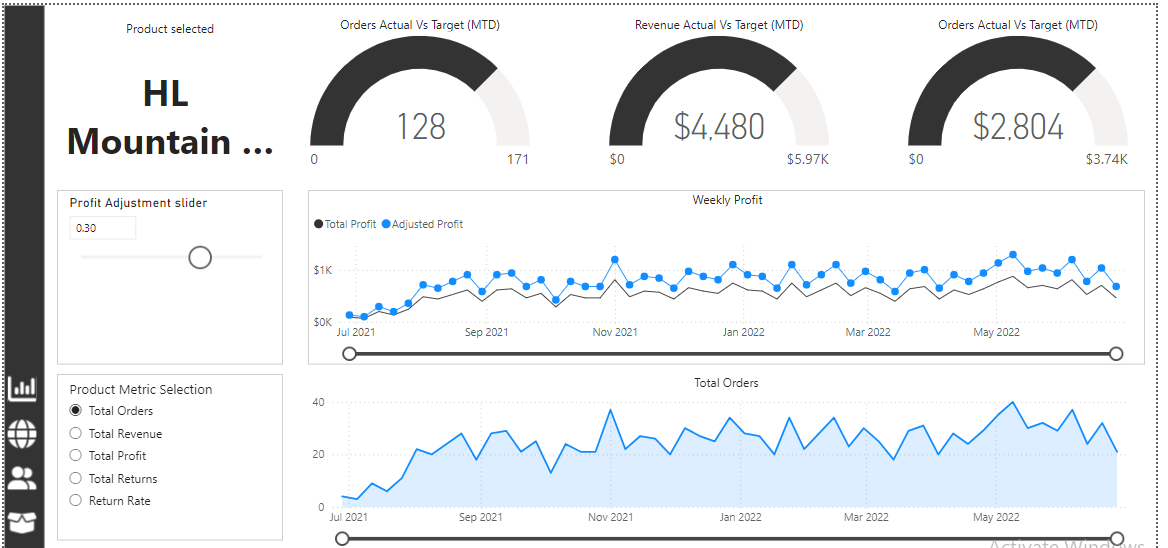

Layout of this report page (visuals, bound fields, positions):
{"tool":"powerbi","page":{"name":"Product Details","canvas":[1280,720],"ordinal":3},"visuals":[{"type":"shape","box":[0,0,45,618.8],"z":0},{"type":"actionButton","box":[0,406.2,45,40],"z":0,"group":"g1"},{"type":"actionButton","box":[0,455.8,45,40],"z":1000,"group":"g1"},{"type":"lineChart","title":"Weekly Profit","fields":{"Category":["Calendar Lookup.Start of Week"],"Y":["Measure Table.Total Profit","Measure Table.Adjusted Profit"]},"box":[337.5,205,930,193.8],"z":1000},{"type":"actionButton","box":[0,505.4,45,40],"z":2000,"group":"g1"},{"type":"areaChart","fields":{"Y":["Measure Table.Total Orders"],"Category":["Calendar Lookup.Start of Week"]},"box":[337.5,410,930,193.8],"z":2000},{"type":"gauge","title":"Orders Actual Vs Target (MTD)","fields":{"Y":["Measure Table.Total Orders"],"MaxValue":["Measure Table.Order Target"]},"box":[321.1,12.5,282.2,180],"z":3000},{"type":"actionButton","box":[0,555,45,40],"z":3000,"group":"g1"},{"type":"gauge","title":"Revenue Actual Vs Target (MTD)","fields":{"Y":["Measure Table.Total Revenue"],"MaxValue":["Measure Table.Revenue Target"]},"box":[652.9,12.5,282.5,180],"z":4000},{"type":"gauge","title":"Orders Actual Vs Target (MTD)","fields":{"Y":["Measure Table.Total Profit"],"MaxValue":["Measure Table.Profit Target"]},"box":[985,12.5,282.5,180],"z":5000},{"type":"textbox","box":[58.8,12.5,251.2,27.5],"z":6000},{"type":"card","fields":{"Values":["Min(Product Lookup.ProductName)"]},"box":[58.8,40,251.2,152.5],"z":7000},{"type":"group","id":"g1","title":"Page Navigation ","box":[0,406.2,45,188.8],"z":8000},{"type":"slicer","fields":{"Values":["Price Adjustement.Price Adjustement"]},"box":[58.8,205,251.2,193.8],"z":9000},{"type":"slicer","fields":{"Values":["Product Metric Selection.Product Metric Selection"]},"box":[58.8,410,251.2,185],"z":10000}]}

Visuals, with their boxes on the page's 1280x720 design canvas (x1, y1, x2, y2). These are canvas units, not pixel positions in the 1168x548 screenshot, which may show the page scaled, cropped or inside an application window:
shape: 0,0,45,619
actionButton: 0,406,45,446
actionButton: 0,456,45,496
"Weekly Profit" lineChart: 338,205,1268,399
actionButton: 0,505,45,545
areaChart - Measure Table.Total Orders x Calendar Lookup.Start of Week: 338,410,1268,604
"Orders Actual Vs Target (MTD)" gauge: 321,12,603,192
actionButton: 0,555,45,595
"Revenue Actual Vs Target (MTD)" gauge: 653,12,935,192
"Orders Actual Vs Target (MTD)" gauge: 985,12,1268,192
textbox: 59,12,310,40
card - Min(Product Lookup.ProductName): 59,40,310,192
"Page Navigation " group: 0,406,45,595
slicer - Price Adjustement.Price Adjustement: 59,205,310,399
slicer - Product Metric Selection.Product Metric Selection: 59,410,310,595
